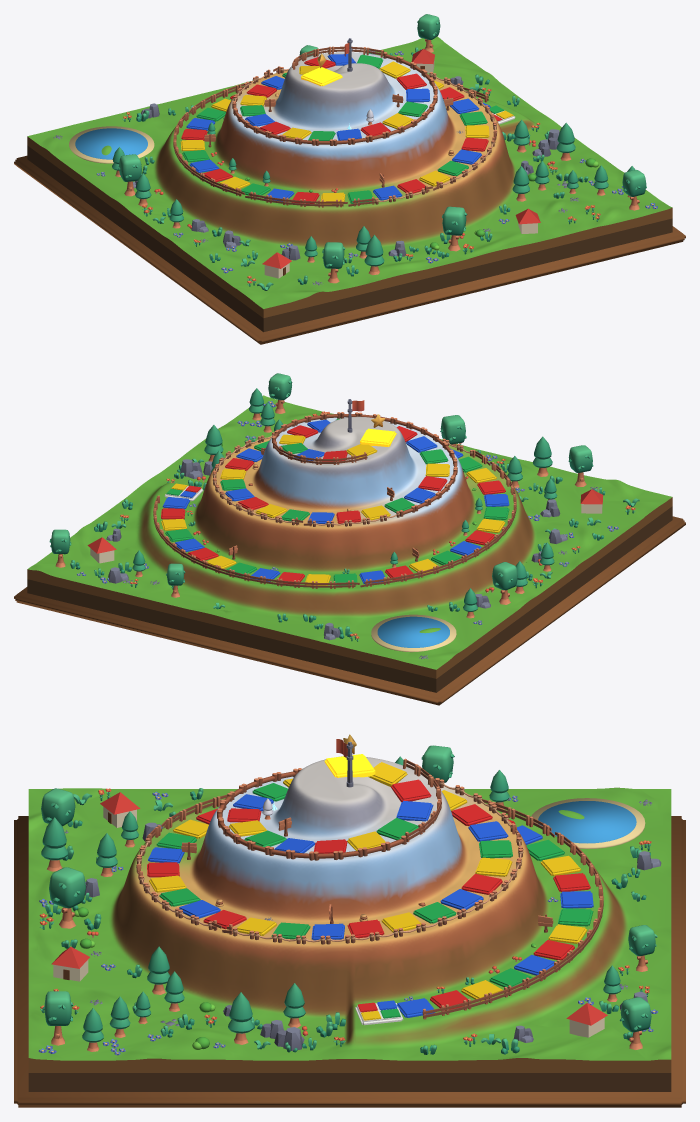
Rendered from tablero_juego.glb.
3 renders of one model, top to bottom at view 1: azimuth 30°, elevation 25°; view 2: azimuth 150°, elevation 25°; view 3: azimuth 270°, elevation 25°, orthographic. The views are drawn at different scales.
Parts seen in each view (by area): view 1: Montana, Base_Faldon, Base_Madera, Deco_Lago_Agua, tree.002, Deco_Lago_Arena, tree.006, tree.001, tree.003, tree.005, tree-pine.010, Deco_house_000 (+1 smaller); view 2: Montana, Base_Faldon, Base_Madera, Deco_Lago_Agua, Deco_Lago_Arena, tree.003, tree.006, tree.001, tree.002, tree.005, tree-pine.010, Tile_060 (+1 smaller); view 3: Montana, Base_Faldon, Base_Madera, Deco_Lago_Agua, tree.002, tree.001, tree.005, Deco_Lago_Arena, tree.006, tree-pine.010, Deco_house_002, Deco_house_001 (+23 smaller).
Part boxes in pixels (<box>): Montana: <box>27,36,672,308</box>; Base_Faldon: <box>27,136,672,332</box>; Base_Madera: <box>14,155,685,344</box>; Deco_Lago_Agua: <box>75,128,147,159</box>; tree.002: <box>442,206,467,251</box>; Deco_Lago_Arena: <box>69,126,154,163</box>; tree.006: <box>322,242,345,283</box>; tree.001: <box>622,170,646,210</box>; tree.003: <box>118,154,141,196</box>; tree.005: <box>417,14,440,52</box>; tree-pine.010: <box>364,235,384,275</box>; Deco_house_000: <box>262,252,291,278</box>; Montana: <box>27,395,671,669</box>; Base_Faldon: <box>27,497,672,692</box>; Base_Madera: <box>14,516,685,705</box>; Deco_Lago_Agua: <box>377,616,449,647</box>; Deco_Lago_Arena: <box>371,614,456,652</box>; tree.003: <box>492,562,517,604</box>; tree.006: <box>568,445,593,486</box>; tree.001: <box>268,373,292,413</box>; tree.002: <box>440,415,466,445</box>; tree.005: <box>49,529,71,567</box>; tree-pine.010: <box>533,436,552,476</box>; Tile_060: <box>360,428,396,446</box>; Montana: <box>28,756,671,1060</box>; Base_Faldon: <box>28,787,671,1091</box>; Base_Madera: <box>14,816,685,1107</box>; Deco_Lago_Agua: <box>538,801,636,843</box>; tree.002: <box>49,867,85,928</box>; tree.001: <box>42,991,73,1045</box>; tree.005: <box>619,997,651,1049</box>; Deco_Lago_Arena: <box>531,798,645,848</box>; tree.006: <box>41,788,75,826</box>; tree-pine.010: <box>41,817,67,871</box>; Deco_house_002: <box>51,946,89,981</box>; Deco_house_001: <box>566,1003,607,1037</box>.
Size of the model in its own units: 27.2 by 10.05 by 27.2.
Materials: 19 (1 with a texture image).
